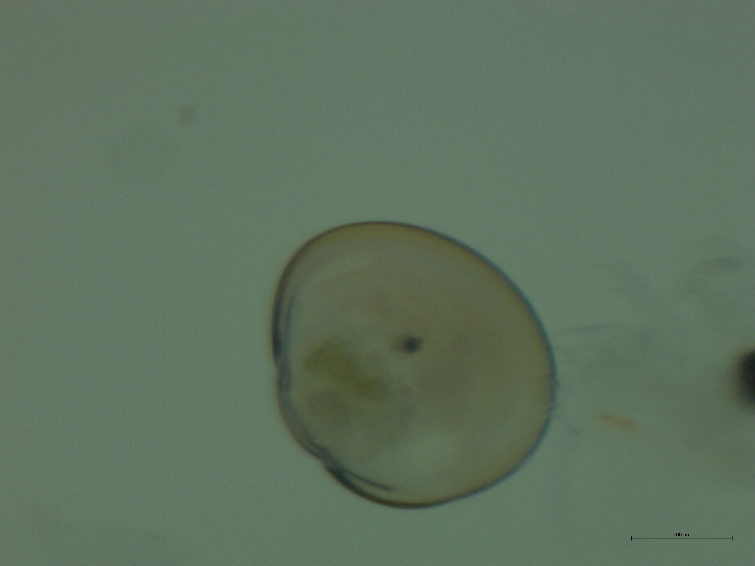oyster: (262, 215, 568, 517)
